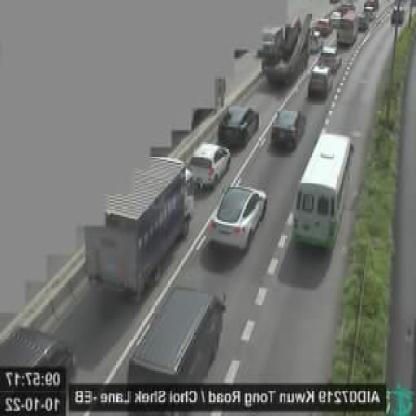Bus: (290, 133, 352, 256)
Car: (126, 287, 224, 385), (208, 182, 265, 254), (187, 142, 233, 192), (218, 103, 260, 149), (268, 108, 305, 155), (308, 62, 331, 97), (316, 42, 340, 71), (316, 18, 332, 34)
Truck: (90, 156, 196, 302), (260, 10, 306, 84), (336, 16, 356, 46)
